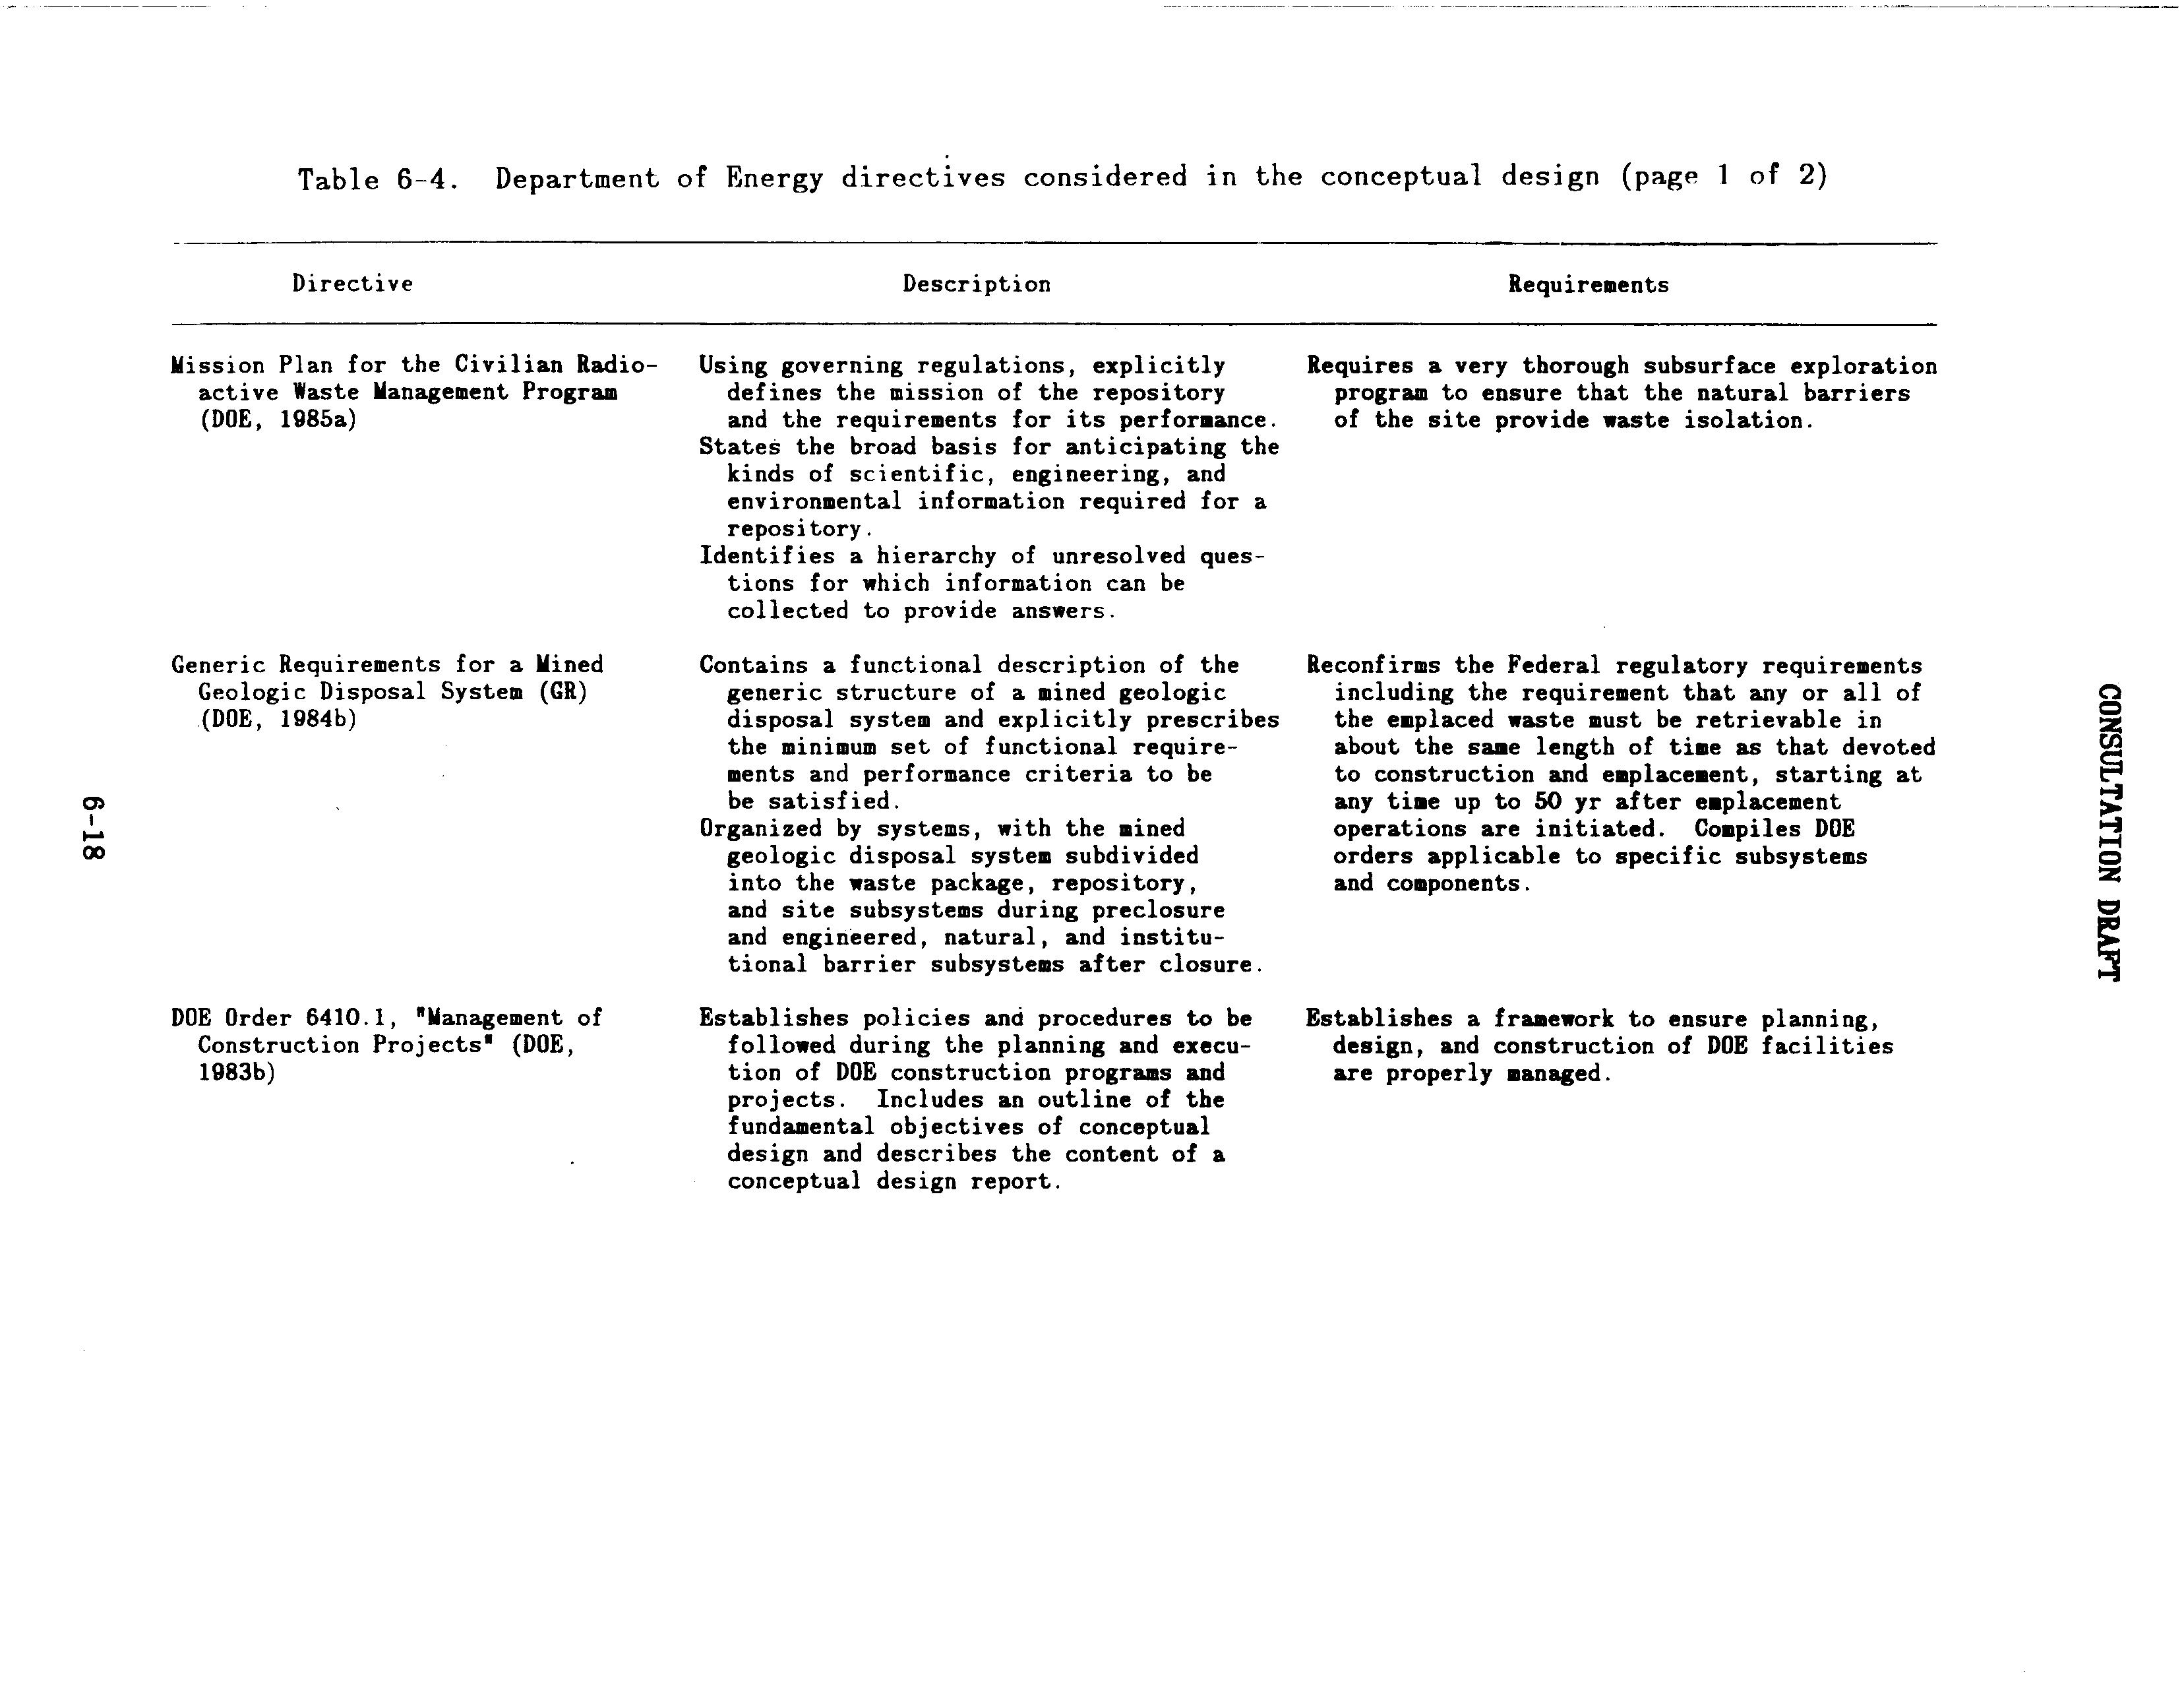boardless: (155, 150, 1947, 1203)
